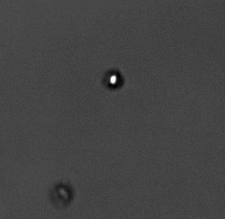Dead Cell: (50, 180, 74, 207)
Living Cell: (103, 67, 125, 90)
